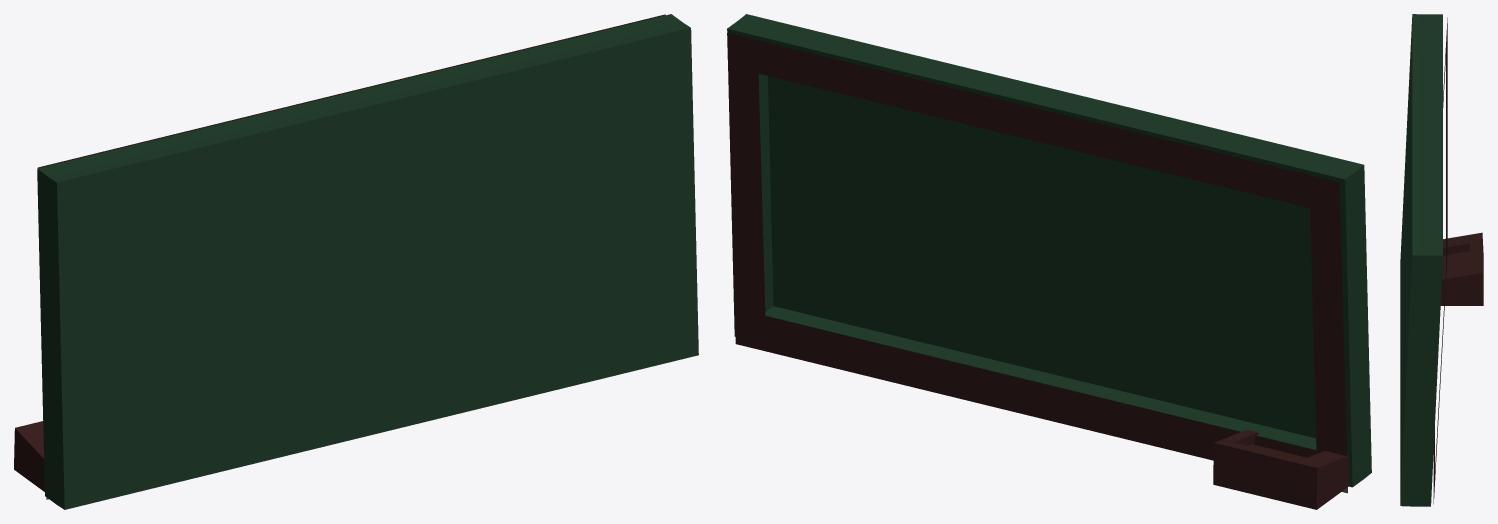
File: blackboard.obj
The picture shows the model from 3 angles, left to right: view 1: azimuth 30°, elevation 25°; view 2: azimuth 150°, elevation 25°; view 3: azimuth 270°, elevation 25°; orthographic projection. The views are drawn at different scales.
Visible parts, largest first — view 1: polySurface1_Untitled.001, polySurface1_Untitled.002, polySurface1_Untitled.003; view 2: polySurface1_Untitled.001, polySurface1_Untitled.003, polySurface1_Untitled.002; view 3: polySurface1_Untitled.001, polySurface1_Untitled.002, polySurface1_Untitled.003.
Part boxes in pixels (x1,y1,x2,y2): polySurface1_Untitled.001: [37, 14, 698, 509]; polySurface1_Untitled.002: [14, 421, 44, 491]; polySurface1_Untitled.003: [37, 14, 665, 168]; polySurface1_Untitled.001: [727, 14, 1371, 487]; polySurface1_Untitled.003: [727, 33, 1346, 460]; polySurface1_Untitled.002: [1213, 429, 1349, 509]; polySurface1_Untitled.001: [1400, 14, 1442, 506]; polySurface1_Untitled.002: [1440, 232, 1483, 305]; polySurface1_Untitled.003: [1433, 17, 1447, 504].
Size of the model in its own units: 100 by 49.44 by 14.63.
